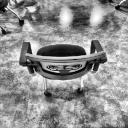chair_success: (16, 39, 110, 98)
